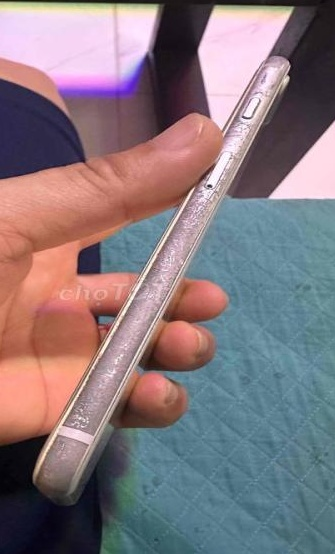scratch: (191, 122, 259, 186), (125, 250, 188, 314), (88, 322, 144, 387), (166, 191, 219, 246), (41, 438, 86, 479), (246, 56, 291, 96), (60, 391, 109, 427)
